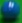black: (0, 0, 22, 23)
